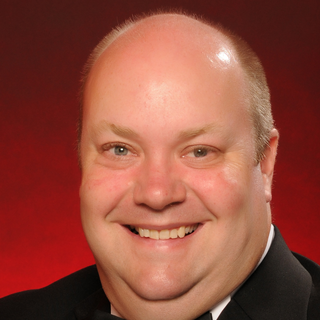eye: (90, 130, 147, 169), (175, 138, 232, 169)
